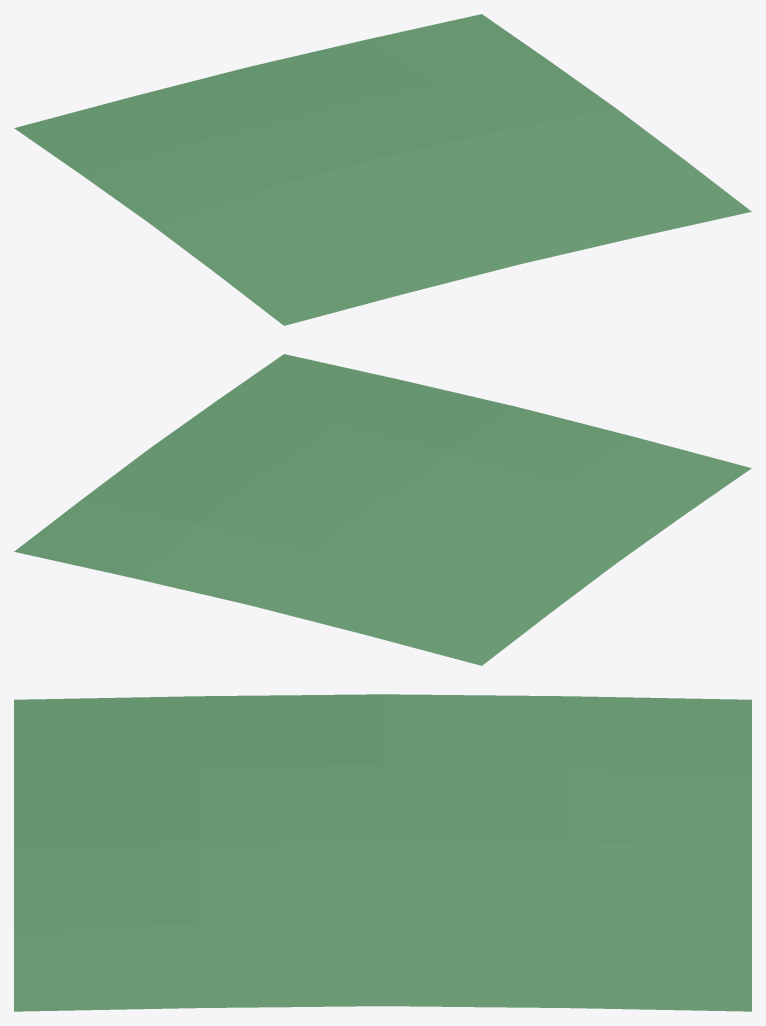
Rendered from ground.fbx.
The picture shows the model from 3 angles, top to bottom: view 1: azimuth 30°, elevation 25°; view 2: azimuth 150°, elevation 25°; view 3: azimuth 270°, elevation 25°; orthographic projection. The views are drawn at different scales.
Visible parts, largest first — view 1: pCube32; view 2: pCube32; view 3: pCube32.
Boxes of the visible parts, x1,y1,x2,y2 form: pCube32: (14, 14, 751, 325); pCube32: (14, 354, 751, 665); pCube32: (14, 694, 751, 1011).
Size of the model in its own units: 1166 by 30.91 by 1166.
